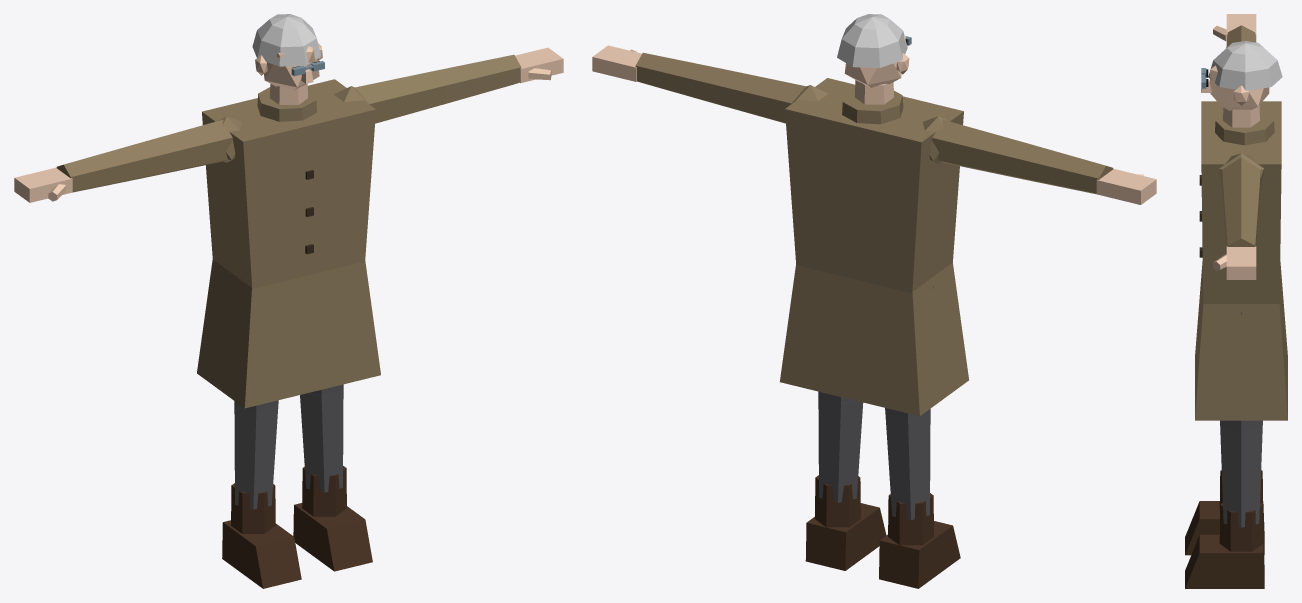
The model's file is Civ_Elderly.glb.
3 renders of one model, left to right at view 1: azimuth 30°, elevation 25°; view 2: azimuth 150°, elevation 25°; view 3: azimuth 270°, elevation 25°, orthographic. The views are drawn at different scales.
Parts seen in each view (by area): view 1: Civ_Elderly; view 2: Civ_Elderly; view 3: Civ_Elderly.
Boxes of the visible parts, left/top/right/bottom form: Civ_Elderly: left=14, top=14, right=563, bottom=588; Civ_Elderly: left=592, top=14, right=1156, bottom=588; Civ_Elderly: left=1185, top=14, right=1287, bottom=588.
Bounding box in the file's own units: 1.8 × 1.73 × 0.31.
